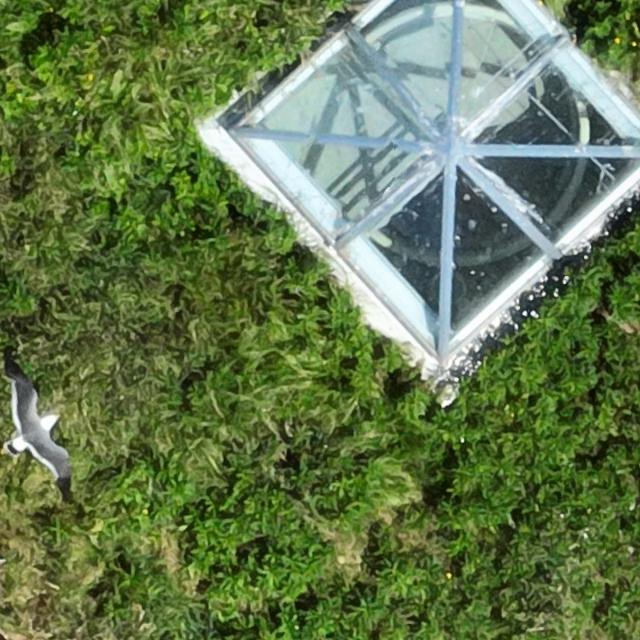F: (11, 386, 70, 486)
